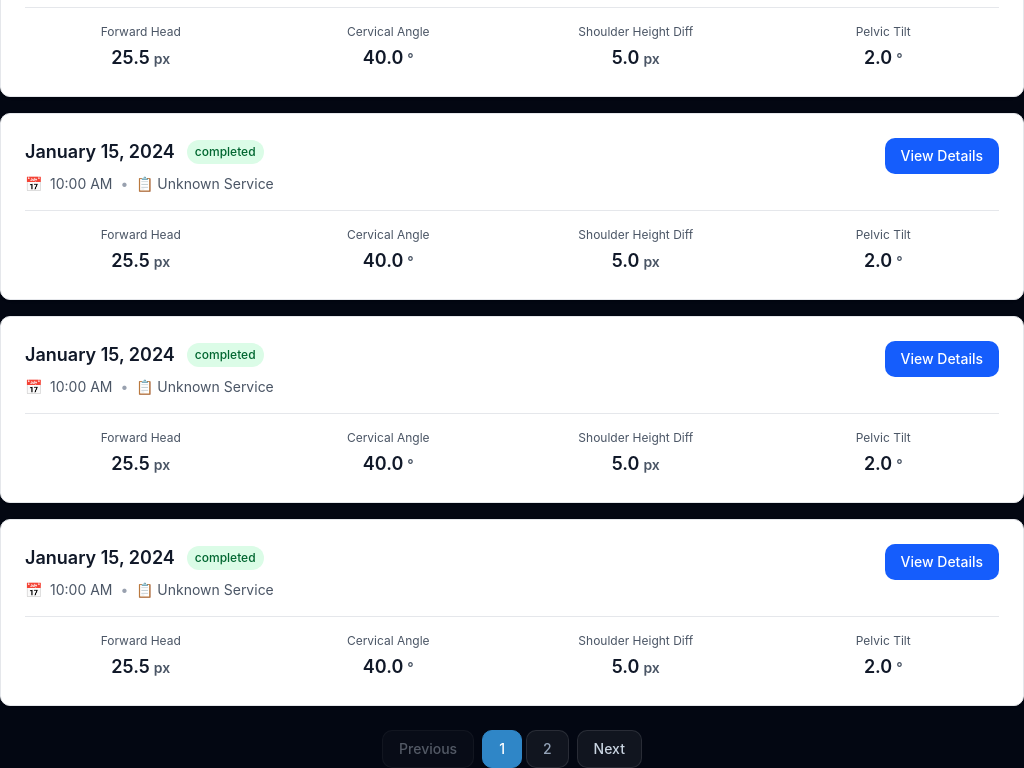
Test: AssessmentHistory › Pagination › should disable Next button on last page
The width and height of the screenshot is (1024, 768).
(page scrolled)
// Go to page 2 (last page)
Click the button "2": (547,749) top-left (526, 730), bottom-right (569, 767)
(page scrolled)
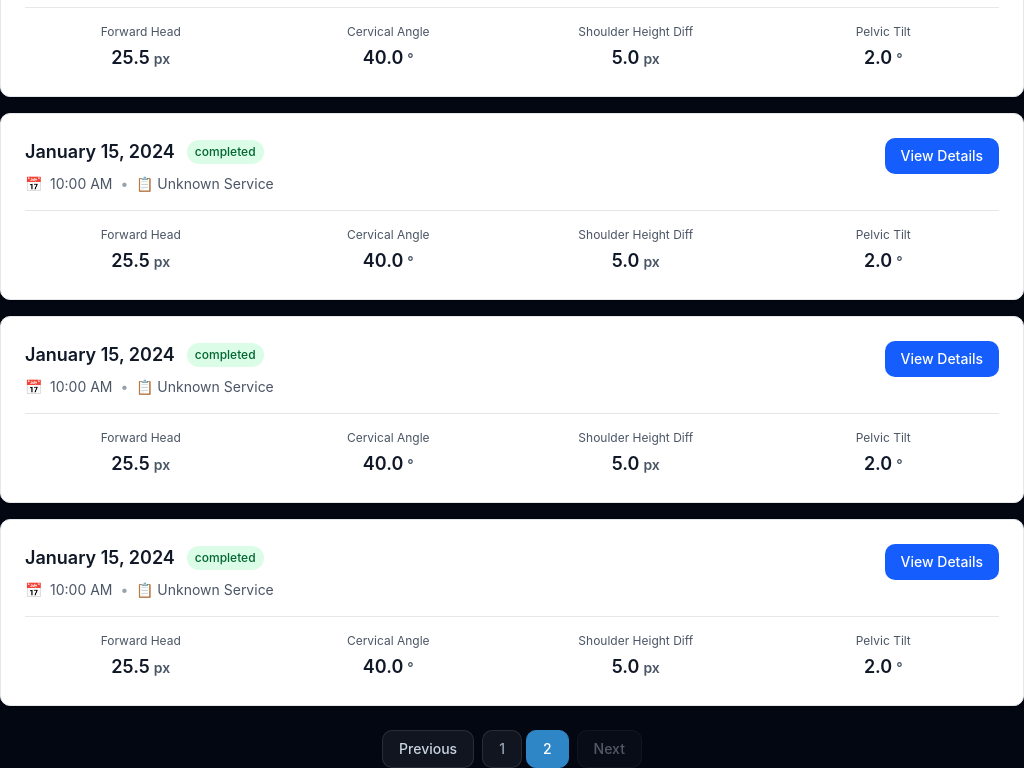
Expected: the button "Next" is disabled, top-left (577, 730), bottom-right (642, 767)
